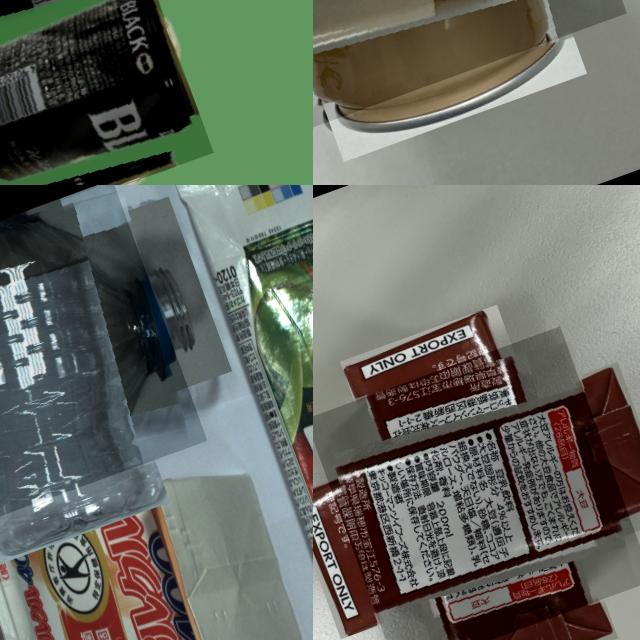Aluminium Foil: (313, 326, 640, 640), (165, 185, 313, 640), (0, 433, 313, 640)
Can: (313, 0, 627, 141), (0, 0, 213, 185)
Transparent Plastic Bottle: (0, 185, 207, 542)
